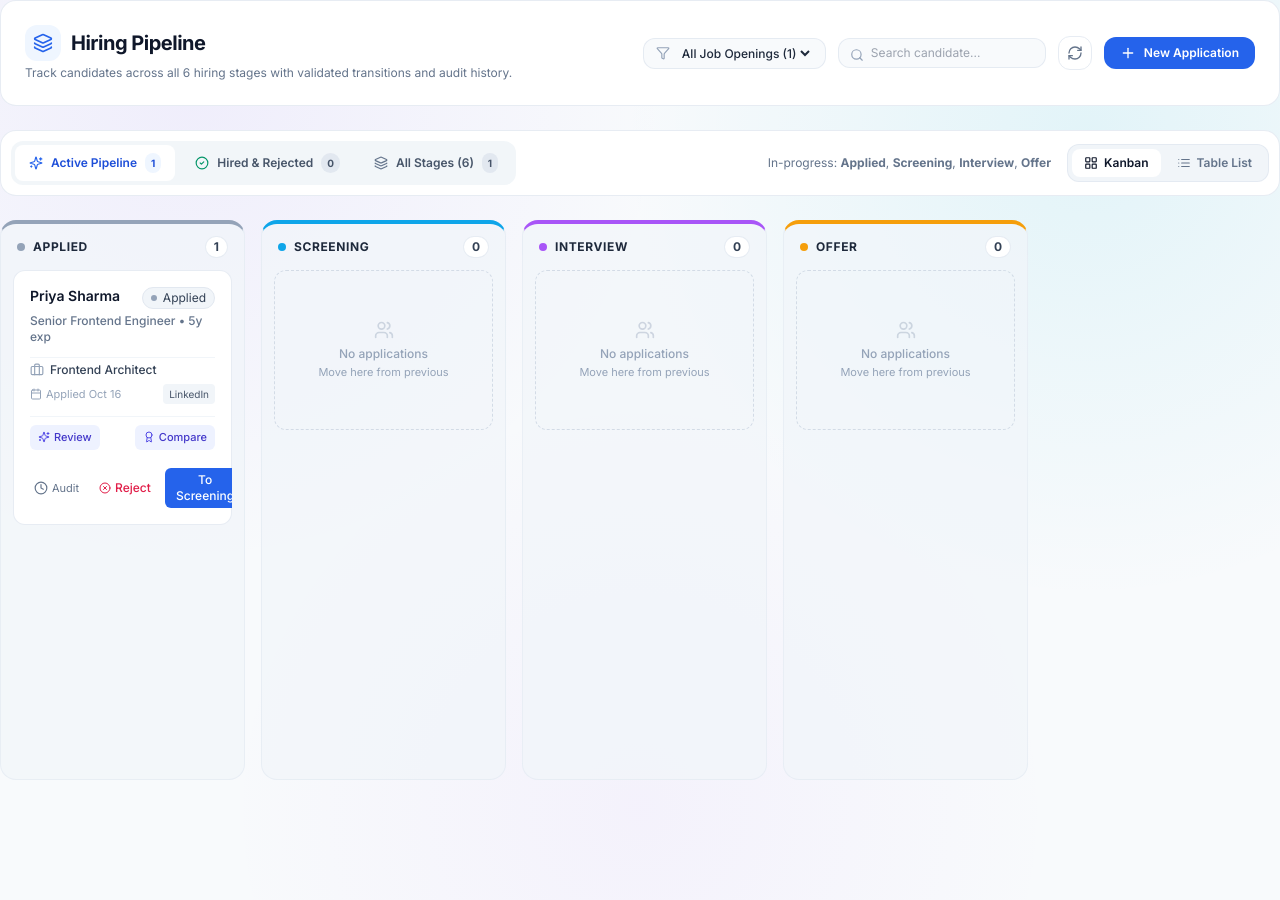
it: PipelineView Component — Phase 5 UI Verification › 3. Successfully advances stage after API confirmation
Check: the heading "Priya Sharma" is shown, box top-left (30, 287), bottom-right (120, 304)
Check: the button named "Advance Priya Sharma to Screening" is shown, box top-left (165, 468), bottom-right (232, 508)
What coordinates should you click on to do the following:
click the button named "Advance Priya Sharma to Screening"
I would click on:
 (212, 488)
Its box is top-left (165, 468), bottom-right (259, 508).
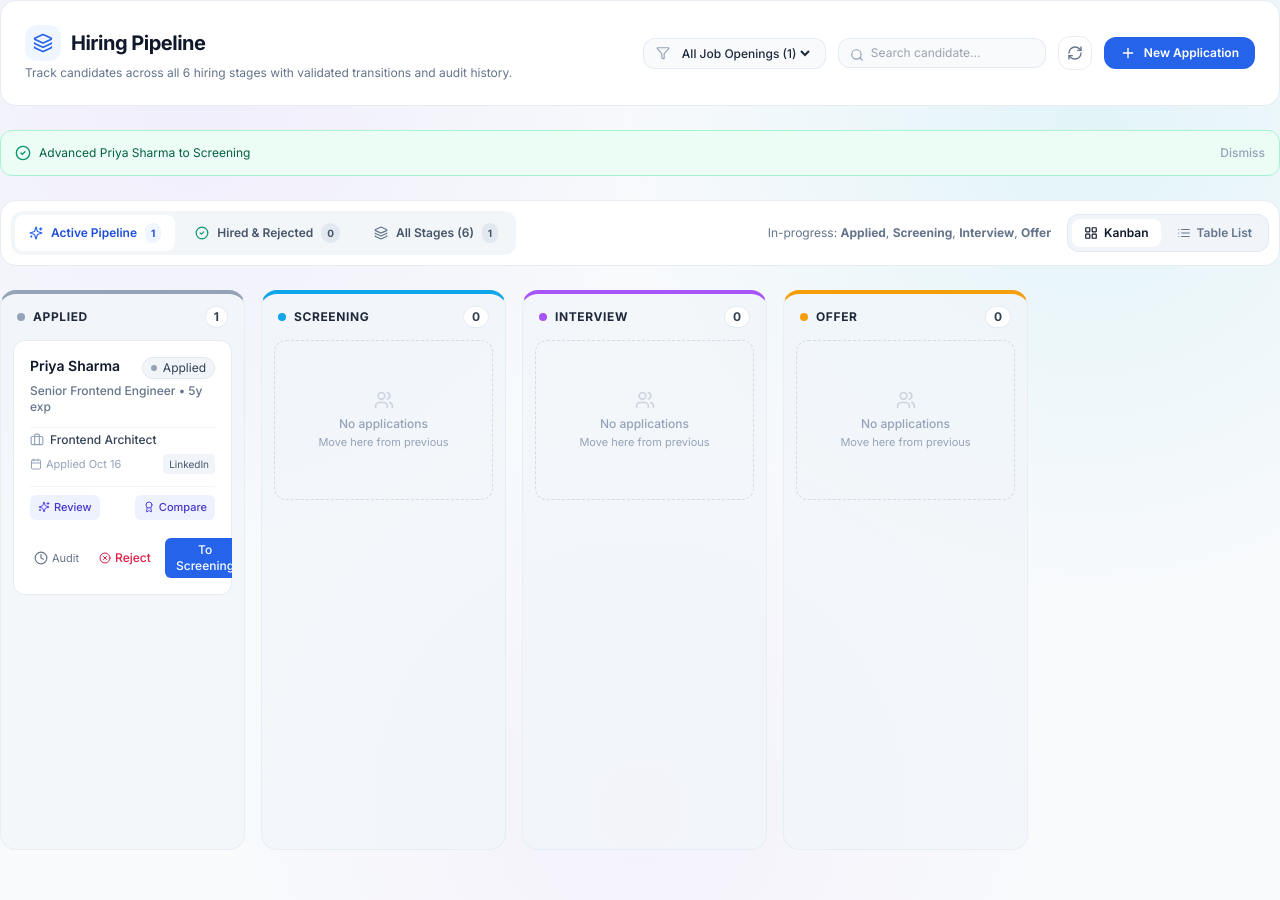
Check: the text "Advanced Priya Sharma to Screening" is shown, box top-left (39, 145), bottom-right (250, 161)
